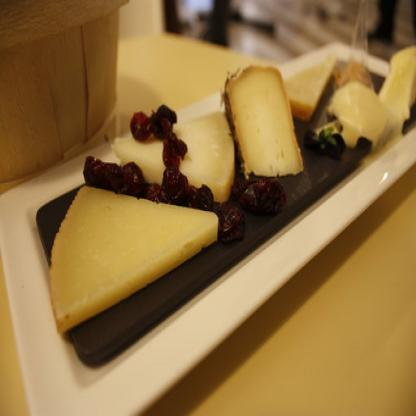parmesan cheese: (50, 188, 214, 316), (110, 110, 234, 211), (225, 62, 301, 181)
